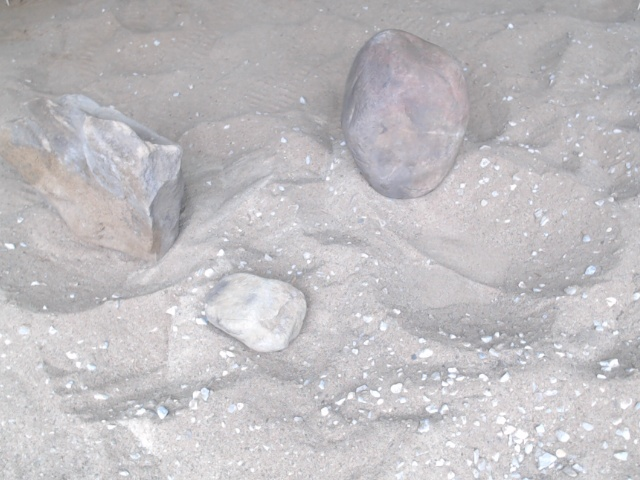rock: (1, 86, 190, 270), (335, 25, 476, 205), (200, 270, 312, 359)
